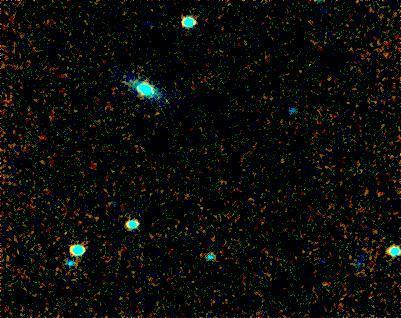star: (132, 76, 162, 106)
